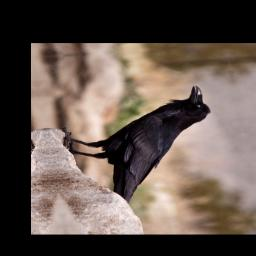Crow: (56, 83, 232, 208)
